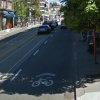Car: (36, 19, 51, 38)
